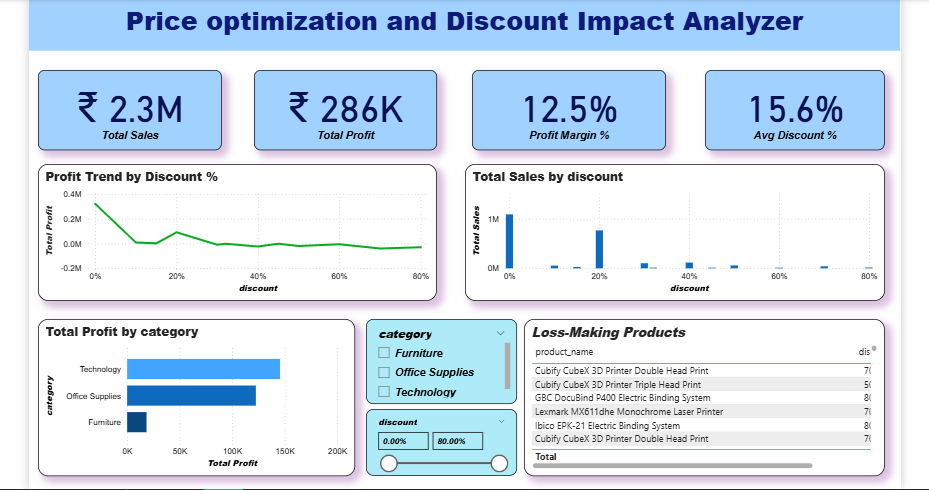

The dashboard page shown, as its layout file describes it:
{"tool":"powerbi","page":{"name":"Page 1","canvas":[1280,720],"ordinal":0},"visuals":[{"type":"card","fields":{"Values":["sales_data_final.Total Sales"]},"box":[13.2,104.3,270.4,117.6],"z":0},{"type":"card","fields":{"Values":["sales_data_final.Total Profit"]},"box":[330.6,104.3,268.9,117.6],"z":1000},{"type":"card","fields":{"Values":["sales_data_final.Profit Margin %"]},"box":[650.9,104.3,285.1,117.6],"z":2000},{"type":"card","fields":{"Values":["sales_data_final.Avg Discount %"]},"box":[993.3,104.3,264.5,117.6],"z":3000},{"type":"lineChart","title":"Profit Trend by Discount %","fields":{"Category":["sales_data_final.discount"],"Y":["sales_data_final.Total Profit"]},"box":[13.2,242.4,586.3,201.3],"z":4000},{"type":"clusteredColumnChart","fields":{"Category":["sales_data_final.discount"],"Y":["sales_data_final.Total Sales"]},"box":[640.7,242.4,617.1,201.3],"z":5000},{"type":"clusteredBarChart","fields":{"Category":["sales_data_final.category"],"Y":["sales_data_final.Total Profit"]},"box":[13.2,470.2,465.8,230.7],"z":6000},{"type":"tableEx","title":"Loss-Making Products","fields":{"Values":["sales_data_final.product_name","sales_data_final.discount","sales_data_final.profit"]},"box":[727.3,470.2,530.4,230.7],"z":7000},{"type":"slicer","fields":{"Values":["sales_data_final.category"]},"box":[495.2,470.2,221.9,124.9],"z":8000},{"type":"slicer","fields":{"Values":["sales_data_final.discount"]},"box":[495.2,602.4,221.9,98.4],"z":9000},{"type":"textbox","box":[0,0,1279.8,76.4],"z":10000}]}

Visuals, with their boxes in screenshot pixels (x1, y1, x2, y2):
card - sales_data_final.Total Sales: <region>43, 70, 225, 149</region>
card - sales_data_final.Total Profit: <region>256, 70, 437, 149</region>
card - sales_data_final.Profit Margin %: <region>472, 70, 663, 149</region>
card - sales_data_final.Avg Discount %: <region>702, 70, 880, 149</region>
"Profit Trend by Discount %" lineChart: <region>43, 163, 437, 298</region>
clusteredColumnChart - sales_data_final.discount x sales_data_final.Total Sales: <region>465, 163, 880, 298</region>
clusteredBarChart - sales_data_final.category x sales_data_final.Total Profit: <region>43, 316, 356, 471</region>
"Loss-Making Products" tableEx: <region>523, 316, 880, 471</region>
slicer - sales_data_final.category: <region>367, 316, 516, 400</region>
slicer - sales_data_final.discount: <region>367, 405, 516, 471</region>
textbox: <region>34, 0, 895, 51</region>
